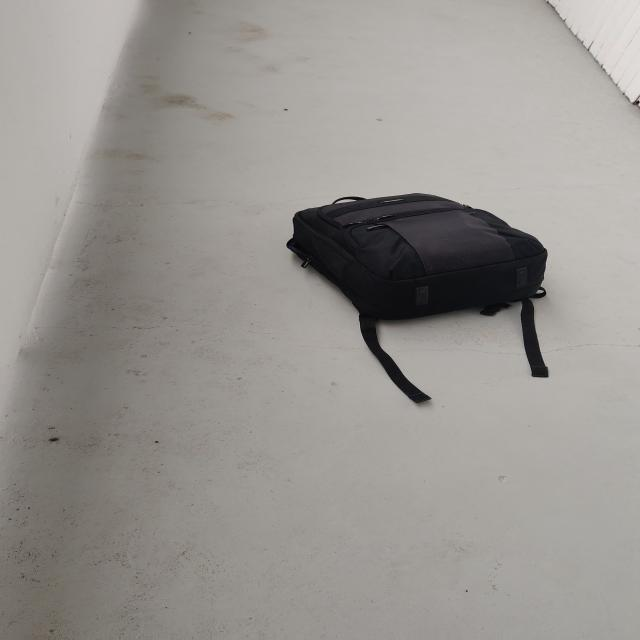backpack: (274, 188, 558, 328)
